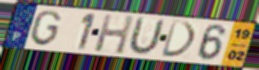1: (77, 12, 98, 51)
6: (196, 23, 229, 63)
D: (159, 19, 198, 59)
G: (28, 9, 63, 48)
H: (93, 13, 136, 56)
U: (125, 16, 166, 57)
